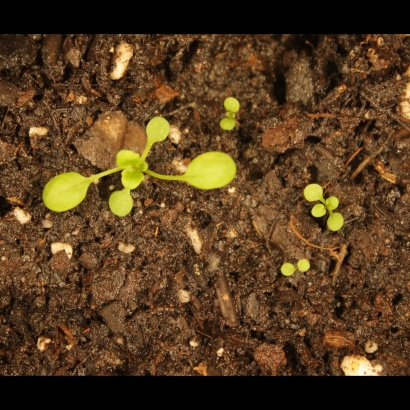leaf: (176, 146, 252, 195), (37, 169, 93, 215), (104, 183, 141, 222), (141, 106, 174, 147), (115, 141, 143, 170), (121, 164, 149, 193), (215, 116, 238, 139), (219, 96, 242, 119), (273, 259, 296, 282), (297, 253, 320, 276), (326, 213, 349, 236), (301, 182, 324, 205), (304, 205, 327, 228), (325, 188, 348, 211)
